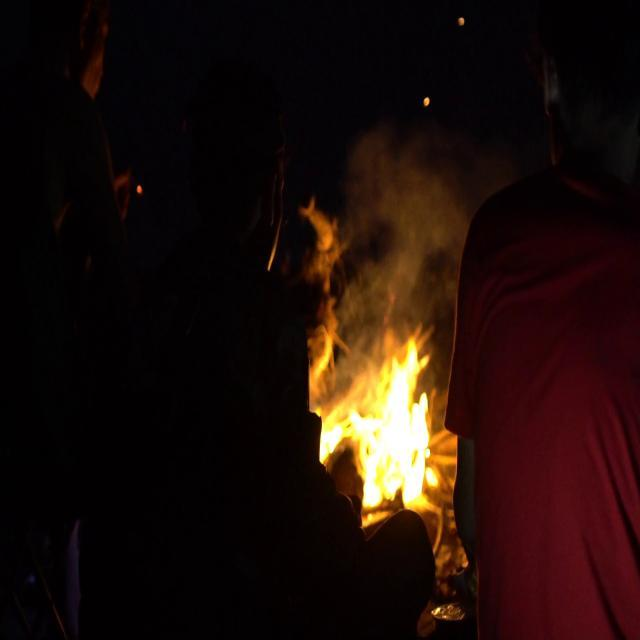Fire: (318, 332, 438, 518)
Smoke: (327, 123, 474, 342)
